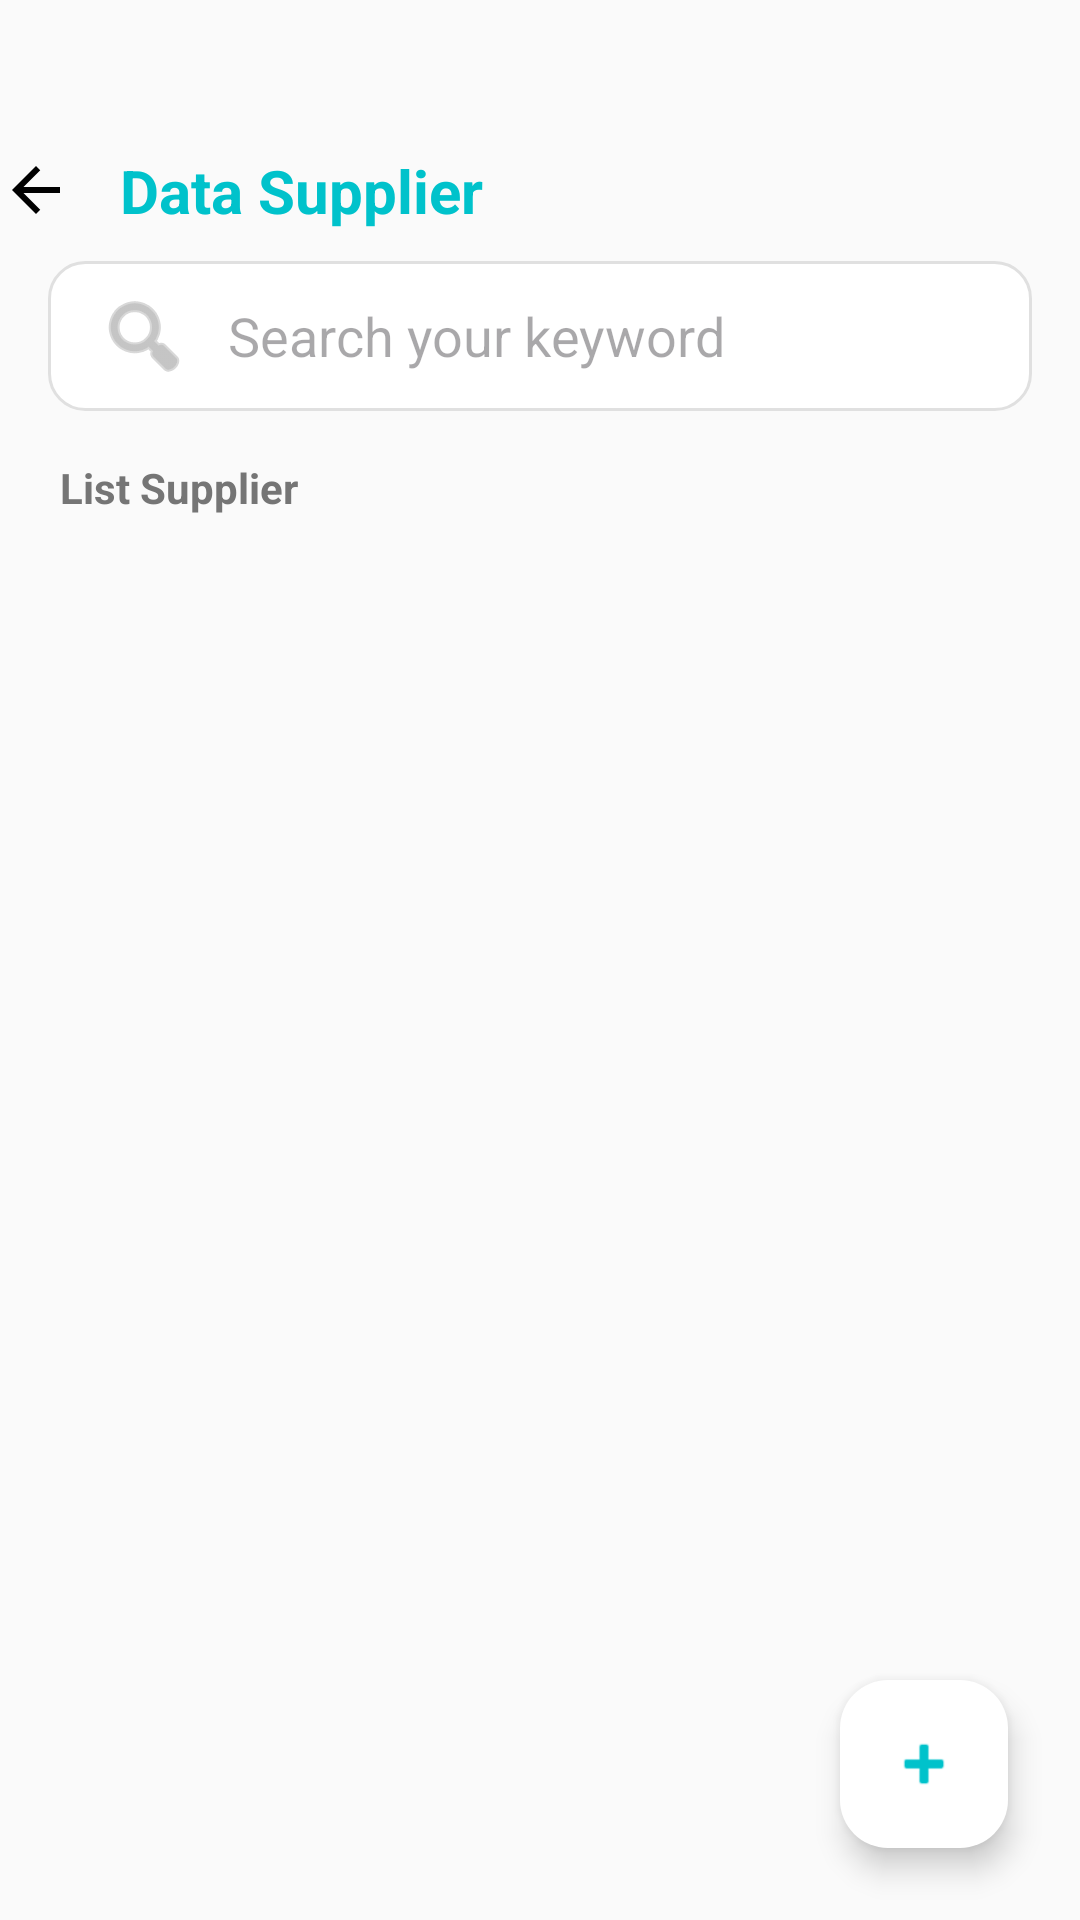

Point at icon controls on the screen. Image size 1080x1920, points as (x=x, y=y).
add: (x=924, y=1764)
arrow back: (x=36, y=190)
